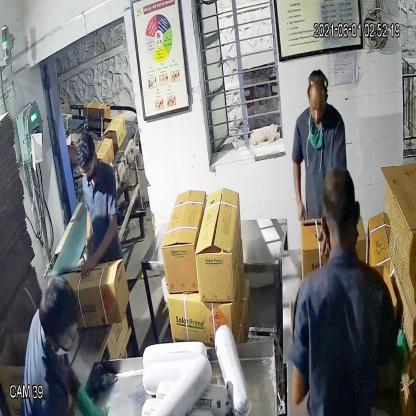goggles: (76, 158, 98, 182)
no_goggles: (305, 97, 329, 121)
